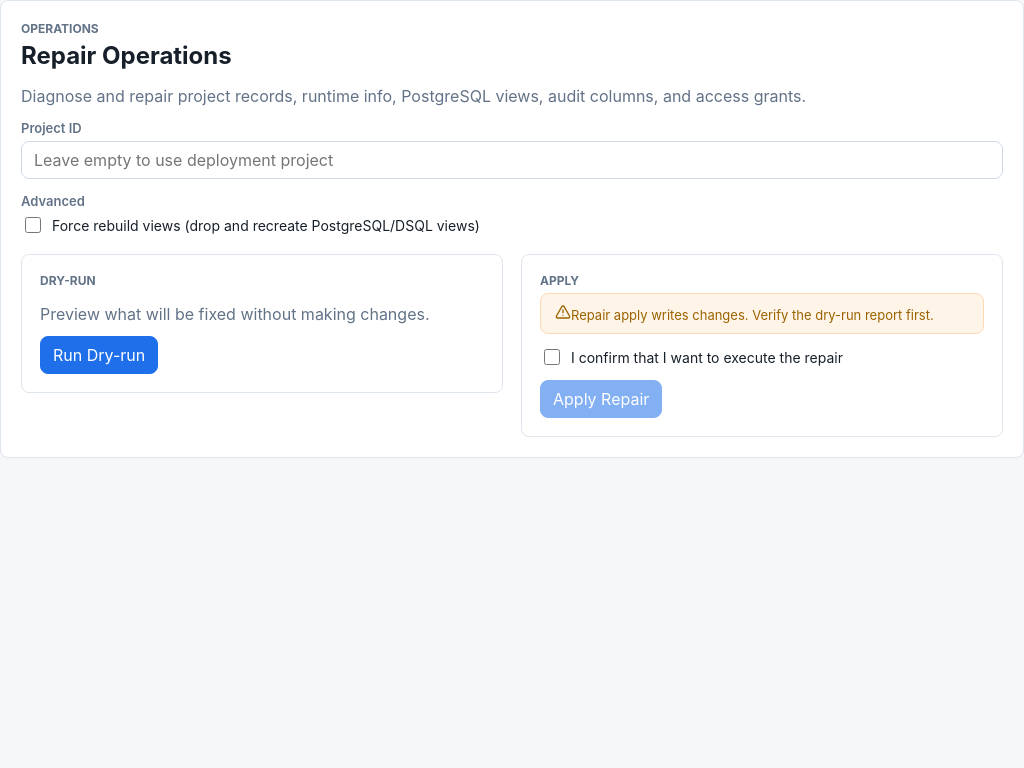
Test: RepairWorkspace › shows error message when applyRepair fails
Click the checkbox labelled "I confirm that I want to execute the repair" at [552, 357], box [544, 349, 560, 365]
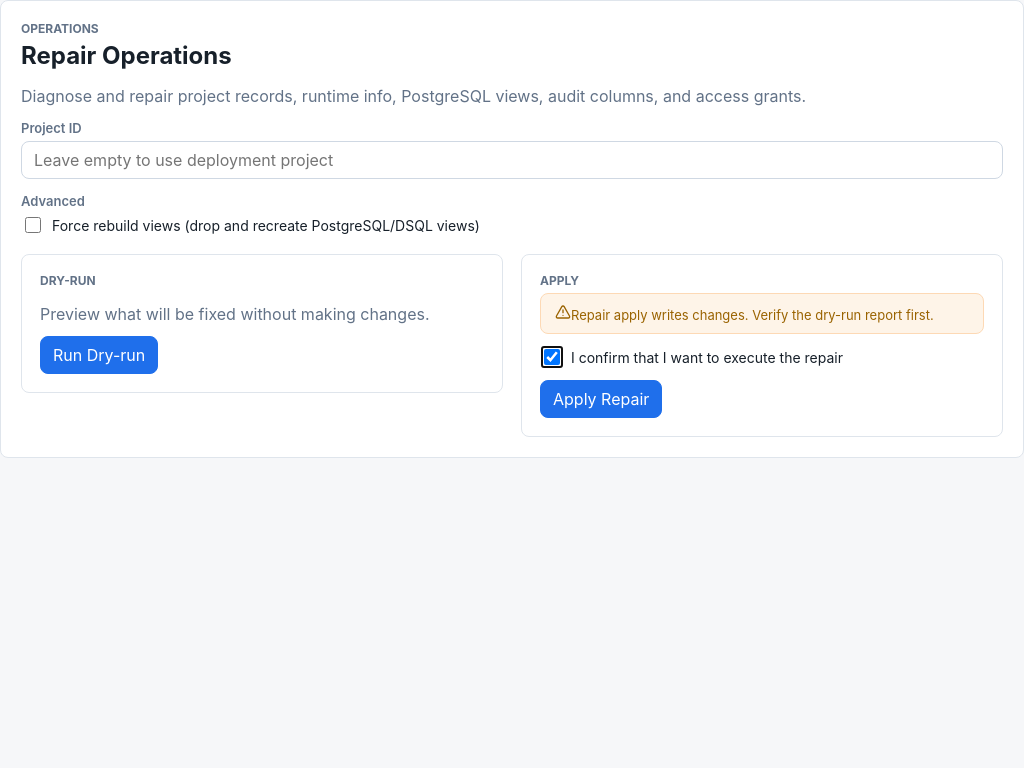
Click the button "Apply Repair" at [601, 399], box [540, 380, 662, 418]
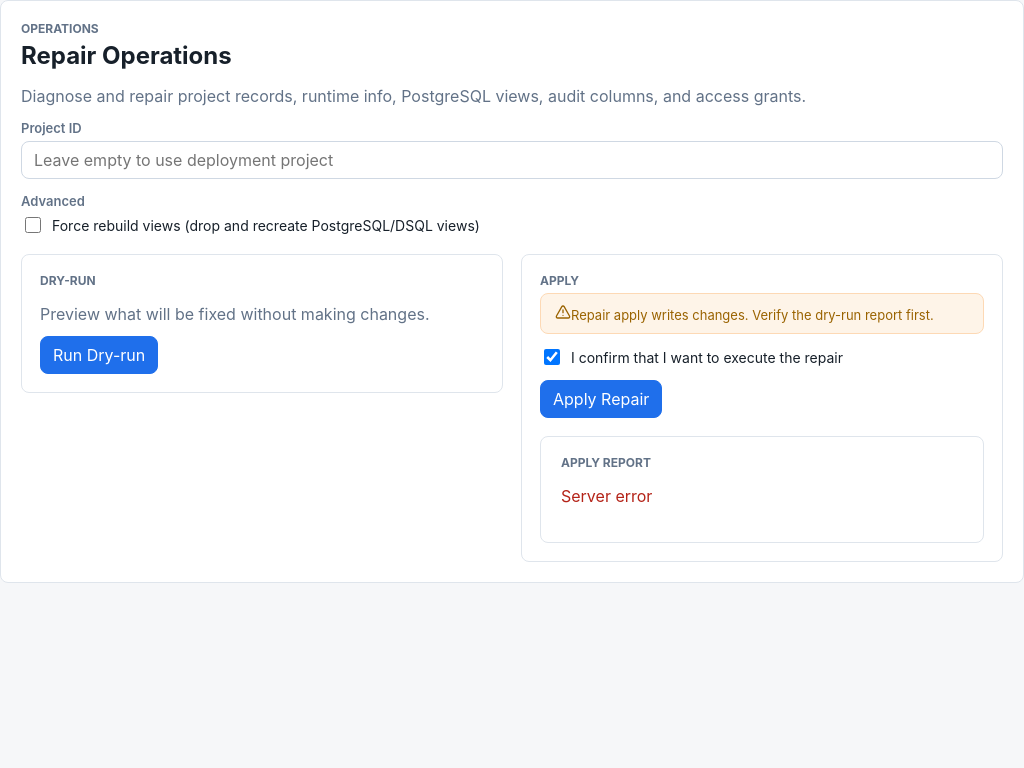
Check: the text "Server error" is shown, box [561, 486, 652, 506]
